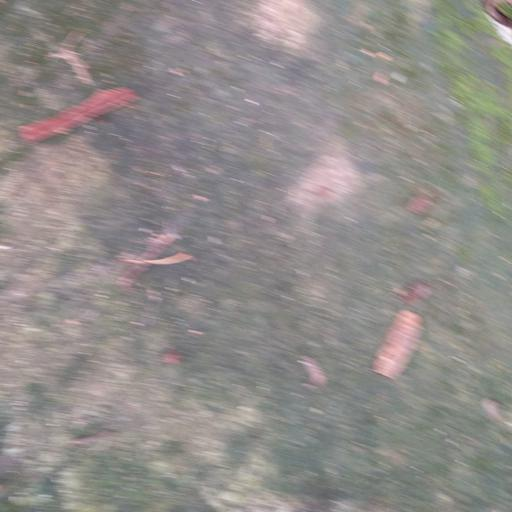algae: (0, 10, 512, 506)
